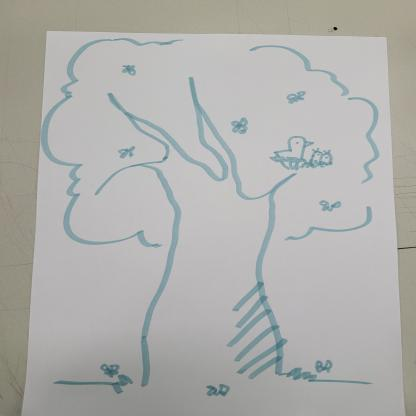bird: (273, 133, 313, 171)
branch_sharp: (104, 77, 298, 217)
crown_cloud: (47, 33, 384, 251)
root_none: (104, 363, 333, 406)
trunk_bark: (134, 252, 293, 367)
